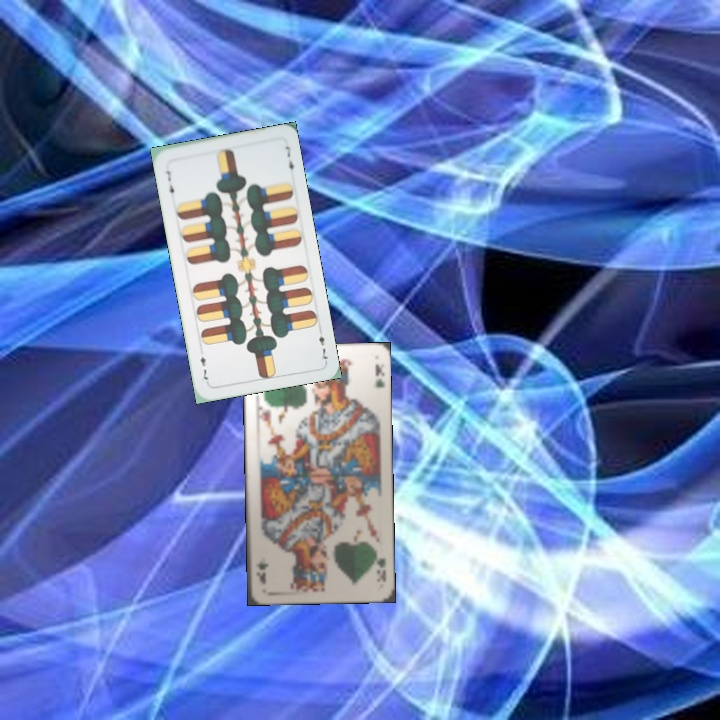E7: (315, 324, 330, 364), (162, 166, 177, 200)
GK: (372, 554, 389, 584)
